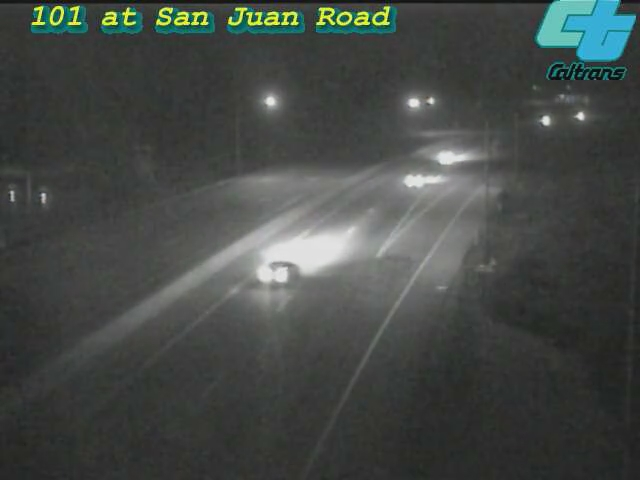vehicle: (372, 142, 452, 222), (239, 230, 319, 310), (522, 94, 572, 144), (557, 91, 607, 141), (420, 133, 470, 183)
